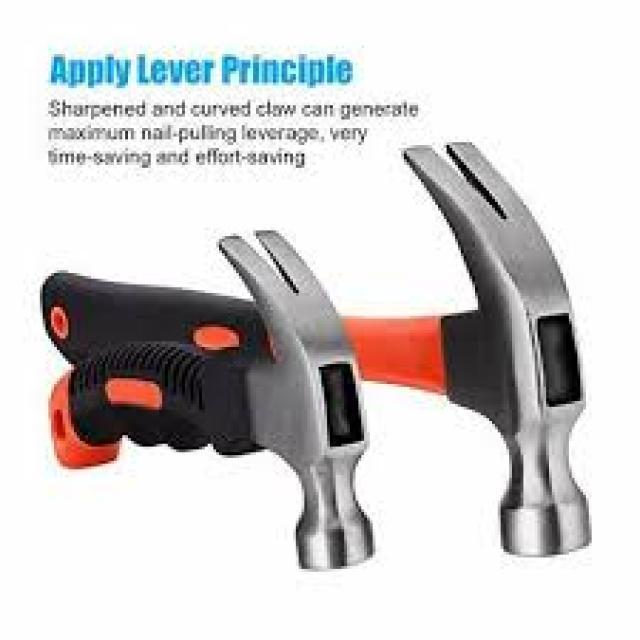hammer: (9, 136, 598, 566), (31, 203, 387, 584)
